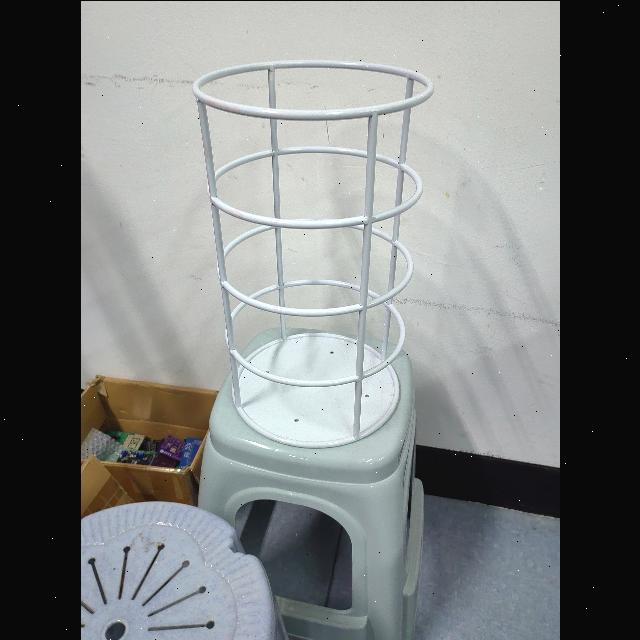S: (190, 54, 436, 452)
